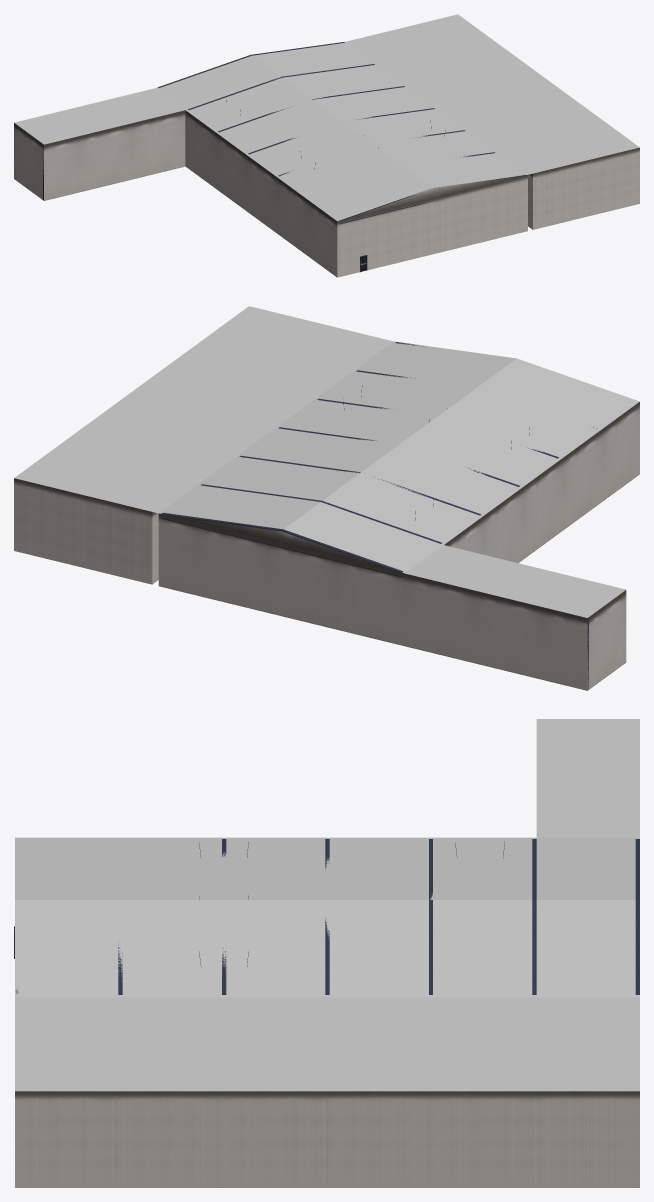
Rendered from Hangar2.FBX.
3 views of the same model, one above another, from view 1: azimuth 30°, elevation 25°; view 2: azimuth 150°, elevation 25°; view 3: azimuth 270°, elevation 25° (orthographic). The views are drawn at different scales.
Visible parts, largest first — view 1: Wall, Cabstruction; view 2: Wall, Cabstruction; view 3: Wall, Cabstruction.
Boxes of the visible parts, left/top/right/bottom form: Wall: left=14, top=14, right=639, bottom=277; Cabstruction: left=14, top=42, right=525, bottom=272; Wall: left=14, top=306, right=639, bottom=690; Cabstruction: left=161, top=342, right=597, bottom=689; Wall: left=15, top=719, right=639, bottom=1187; Cabstruction: left=14, top=839, right=639, bottom=994.
Bounding box in the file's own units: 62.51 × 9.32 × 44.44.
